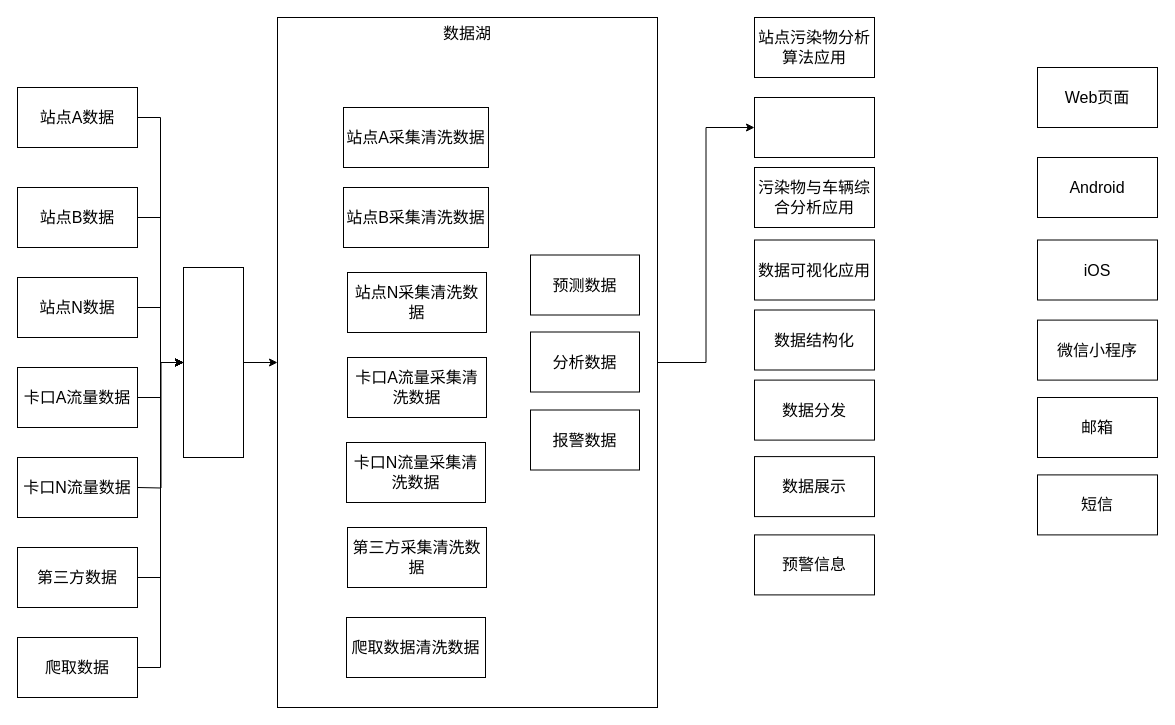
Image size: 1175x725. Some labels were removed from this diagram. The shapes that lost their labels are listed below. From the top down, each one's centre as x and y in pixels, then its label:
At [814,127]: "卡口流量分析算法应用".
At [213,362]: "数据抽取清洗模块（ETL）".
